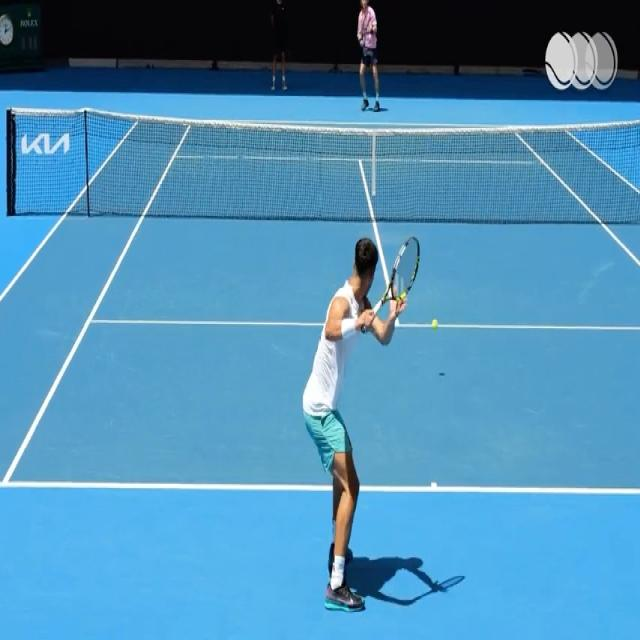forehand-ready: (300, 229, 420, 617)
